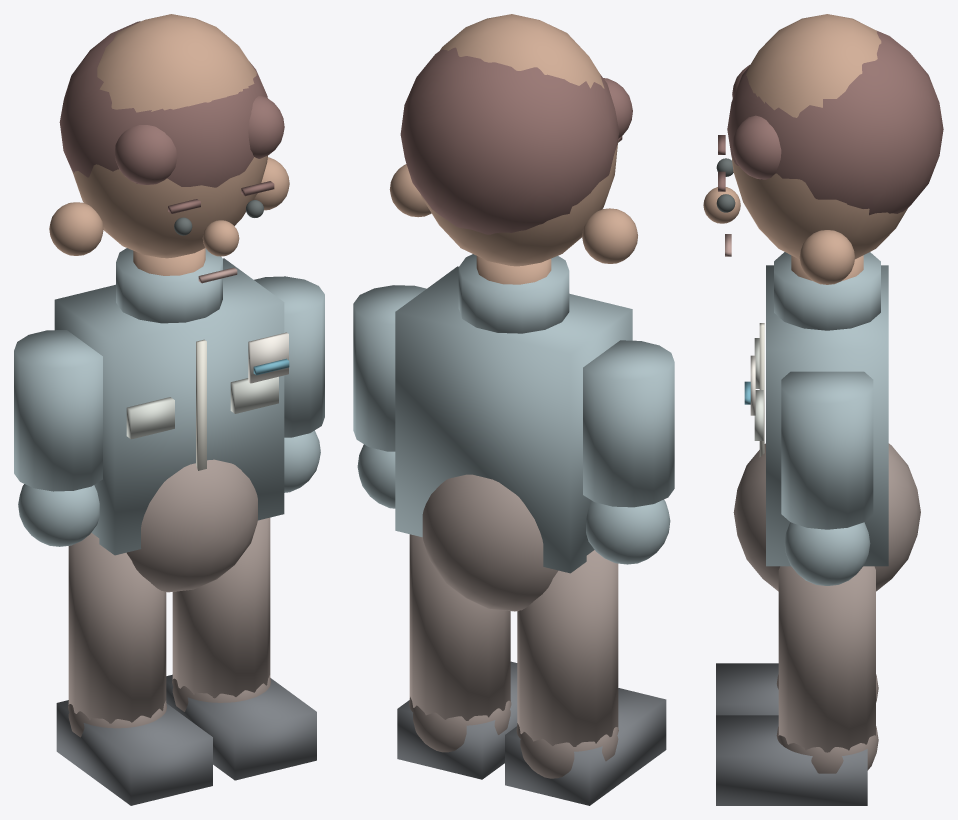
Rendered from mercy_person_20.glb.
3 renders of one model, left to right at view 1: azimuth 30°, elevation 25°; view 2: azimuth 150°, elevation 25°; view 3: azimuth 270°, elevation 25°, orthographic. The views are drawn at different scales.
Visible parts, largest first — view 1: SkinClothing_0, SkinClothing_2, SkinClothing_6, Arm_Left, Leg_Left, Leg_Right, SkinClothing_1, Boot_Left, Boot_Right, Arm_Right, SkinClothing_4, SkinClothing_8 (+1 smaller); view 2: SkinClothing_0, SkinClothing_6, Leg_Left, Arm_Left, SkinClothing_2, Leg_Right, SkinClothing_1, Arm_Right, Boot_Left, Boot_Right; view 3: SkinClothing_6, SkinClothing_2, SkinClothing_0, Arm_Right, Leg_Right, Boot_Right, SkinClothing_1, Boot_Left, SkinClothing_4, SkinClothing_3, SkinClothing_5.
Boxes of the visible parts, left/top/right/bottom form: SkinClothing_0: left=54, top=248, right=284, bottom=555; SkinClothing_2: left=49, top=14, right=289, bottom=275; SkinClothing_6: left=59, top=21, right=284, bottom=213; Arm_Left: left=14, top=330, right=102, bottom=546; Leg_Left: left=68, top=533, right=166, bottom=737; Leg_Right: left=172, top=517, right=270, bottom=711; SkinClothing_1: left=127, top=459, right=257, bottom=592; Boot_Left: left=56, top=700, right=212, bottom=805; Boot_Right: left=166, top=674, right=316, bottom=780; Arm_Right: left=254, top=276, right=324, bottom=492; SkinClothing_4: left=126, top=376, right=278, bottom=439; SkinClothing_8: left=248, top=332, right=288, bottom=383; SkinClothing_0: left=395, top=254, right=632, bottom=573; SkinClothing_6: left=400, top=47, right=632, bottom=234; Leg_Left: left=516, top=550, right=618, bottom=778; Arm_Left: left=583, top=340, right=674, bottom=564; SkinClothing_2: left=389, top=14, right=637, bottom=284; Leg_Right: left=409, top=534, right=511, bottom=752; SkinClothing_1: left=422, top=474, right=558, bottom=611; Arm_Right: left=353, top=285, right=426, bottom=508; Boot_Left: left=505, top=688, right=666, bottom=805; Boot_Right: left=397, top=661, right=517, bottom=779; SkinClothing_6: left=718, top=30, right=943, bottom=215; SkinClothing_2: left=703, top=14, right=907, bottom=284; SkinClothing_0: left=766, top=252, right=888, bottom=566; Arm_Right: left=781, top=371, right=873, bottom=585; Leg_Right: left=776, top=566, right=878, bottom=773; Boot_Right: left=716, top=715, right=867, bottom=805; SkinClothing_1: left=733, top=443, right=920, bottom=591; Boot_Left: left=716, top=663, right=778, bottom=715; SkinClothing_4: left=754, top=338, right=763, bottom=440; SkinClothing_3: left=759, top=323, right=764, bottom=457; SkinClothing_5: left=716, top=158, right=735, bottom=212.
Bounding box in the file's own units: 1.14 × 2.64 × 0.7776.
